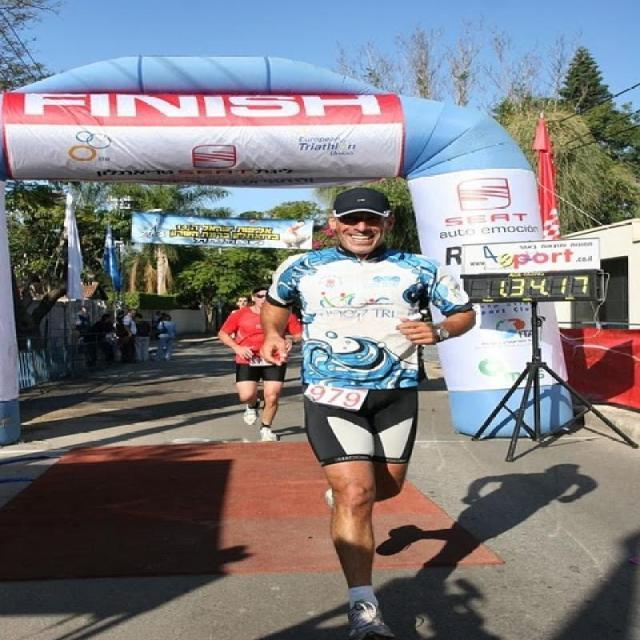dorsal: (301, 376, 373, 414)
